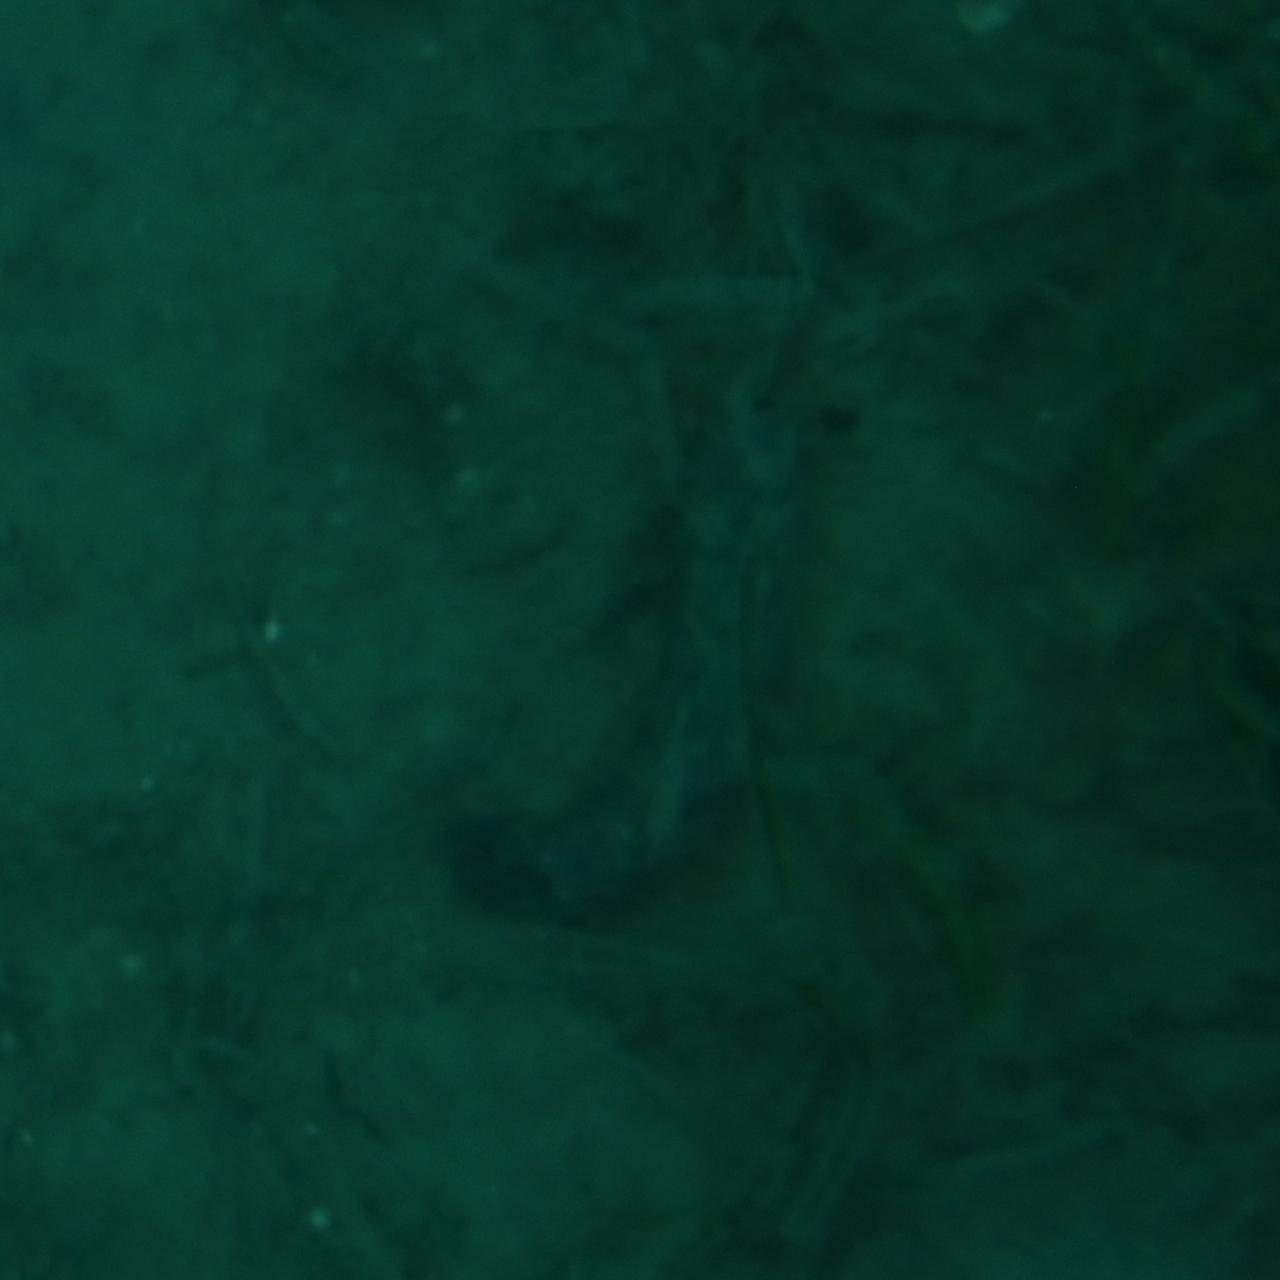Holothuria tubulosa: (456, 336, 824, 944)
